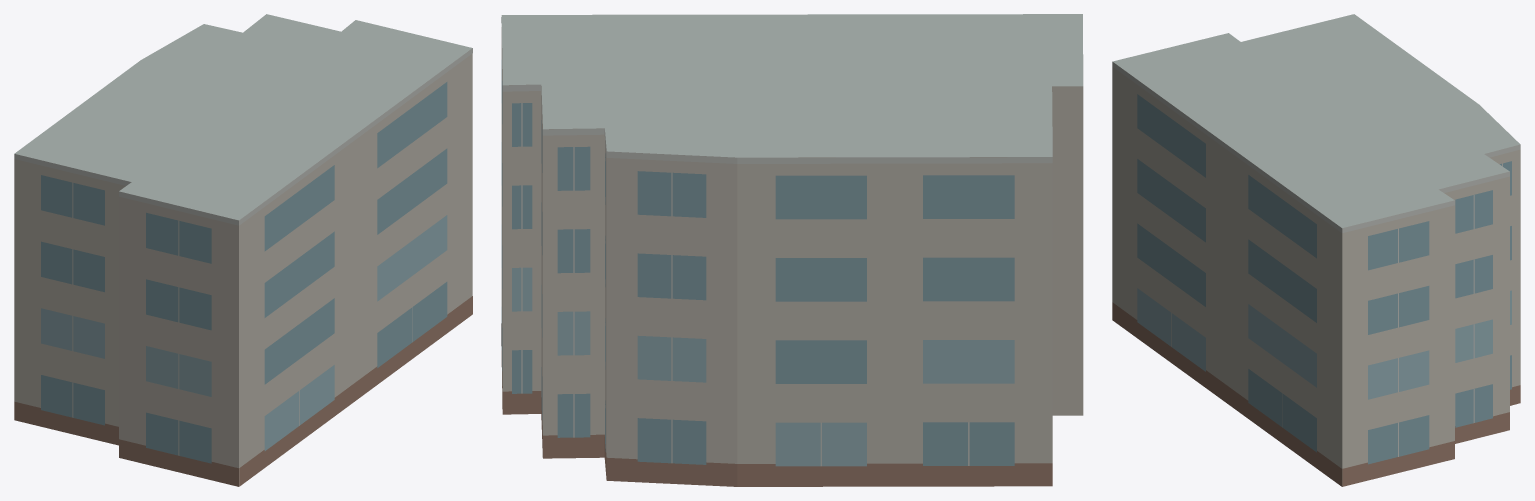
File: survey-upis-32584944.glb
3 views of the same model, side by side, from view 1: azimuth 30°, elevation 25°; view 2: azimuth 150°, elevation 25°; view 3: azimuth 270°, elevation 25° (orthographic). The views are drawn at different scales.
Visible parts, largest first — view 1: survey-upis-32584944.tmp; view 2: survey-upis-32584944.tmp; view 3: survey-upis-32584944.tmp.
Boxes of the visible parts, x1=… form: survey-upis-32584944.tmp: x1=14, y1=14, x2=472, y2=486; survey-upis-32584944.tmp: x1=501, y1=14, x2=1083, y2=486; survey-upis-32584944.tmp: x1=1112, y1=14, x2=1520, y2=486.
Size of the model in its own units: 22.21 by 12.5 by 17.89.
